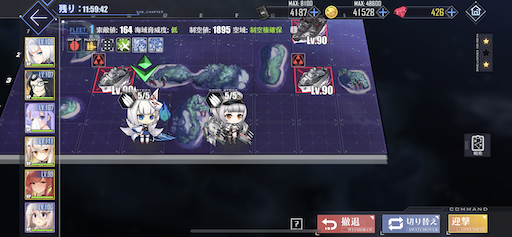lv2: (290, 19, 329, 44)
lv3: (291, 54, 334, 95), (93, 59, 131, 92)
